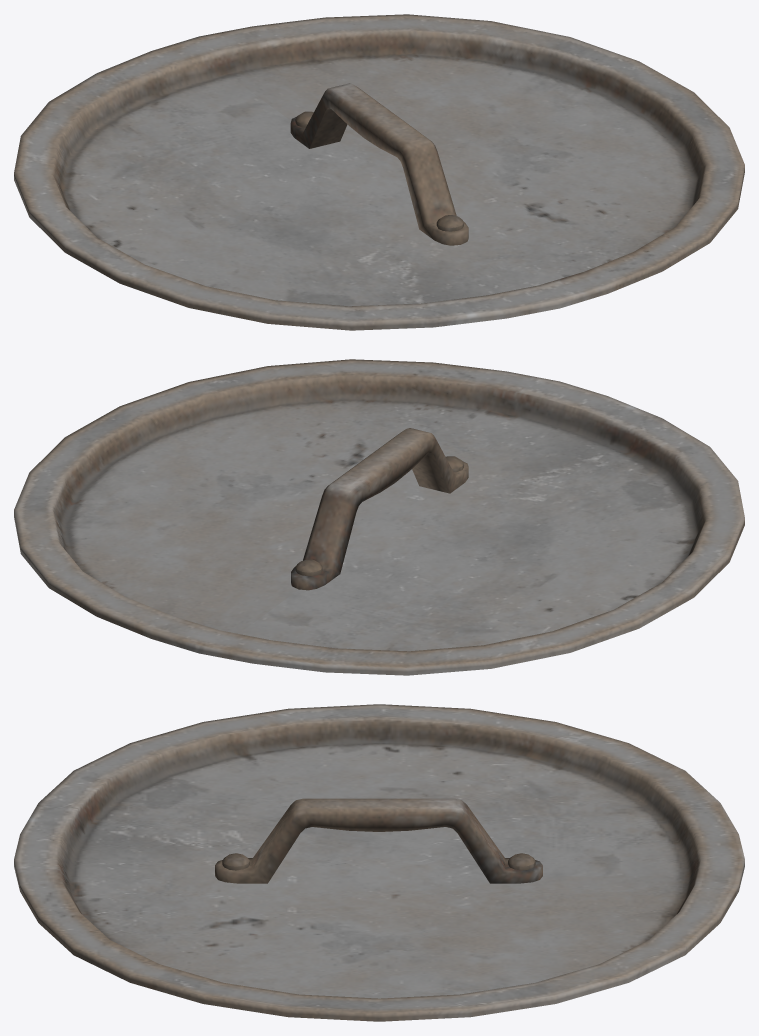
File: SM_Kitchenware01_3_LOD0.glb
3 views of the same model, one above another, from view 1: azimuth 30°, elevation 25°; view 2: azimuth 150°, elevation 25°; view 3: azimuth 270°, elevation 25° (orthographic).
Visible parts, largest first — view 1: SM_Kitchenware01_3_LOD0; view 2: SM_Kitchenware01_3_LOD0; view 3: SM_Kitchenware01_3_LOD0.
Boxes of the visible parts, box(x1,y1,x2,y2) form: SM_Kitchenware01_3_LOD0: box(14, 14, 744, 330); SM_Kitchenware01_3_LOD0: box(14, 359, 744, 675); SM_Kitchenware01_3_LOD0: box(14, 704, 744, 1021).
Size of the model in its own units: 0.3533 by 0.0471 by 0.3518.
Materials: 1 (1 with a texture image).
